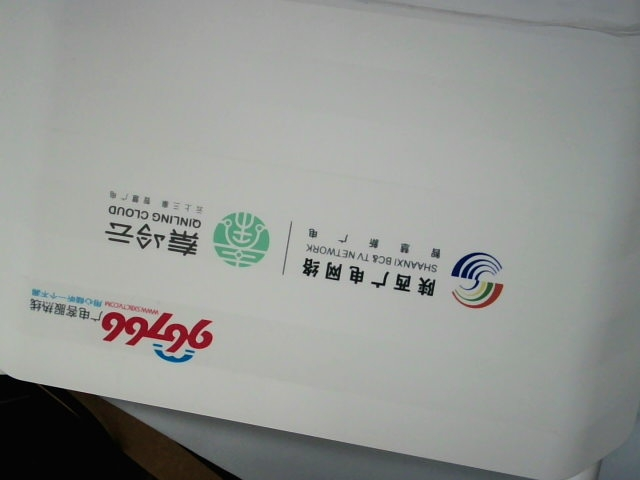AE_QinLing: (86, 179, 273, 278)
